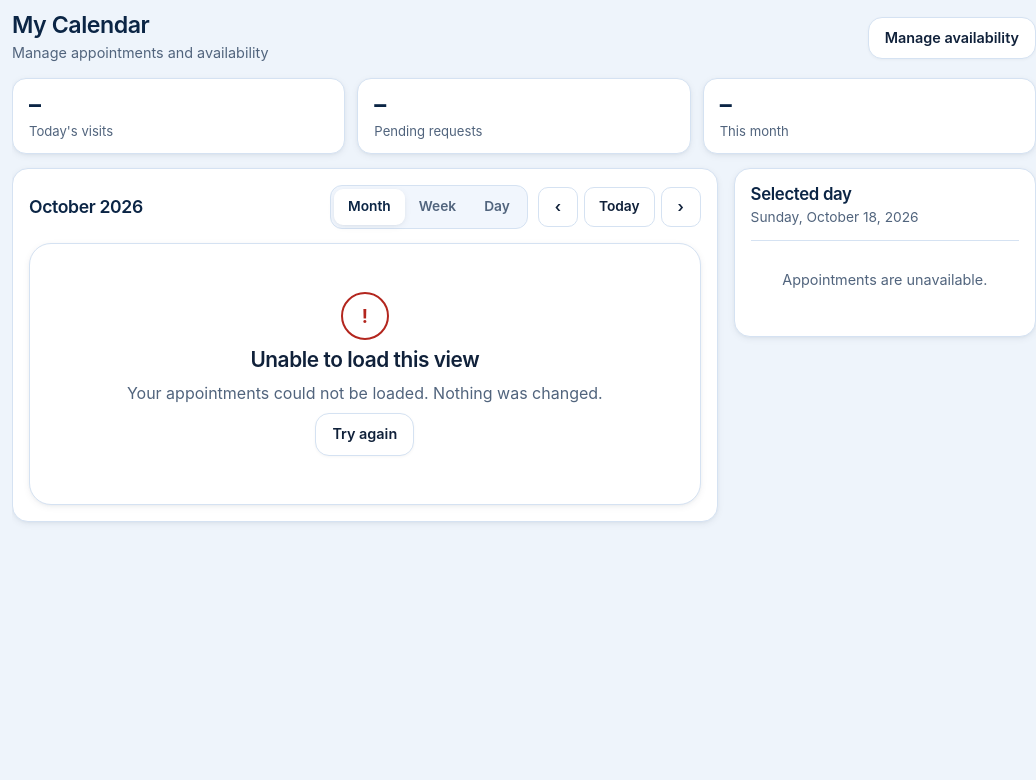
DoctorCalendarPage › shows a retry state when appointments fail to load
Click the button "Try again": click(365, 435) top-left (315, 413), bottom-right (414, 456)
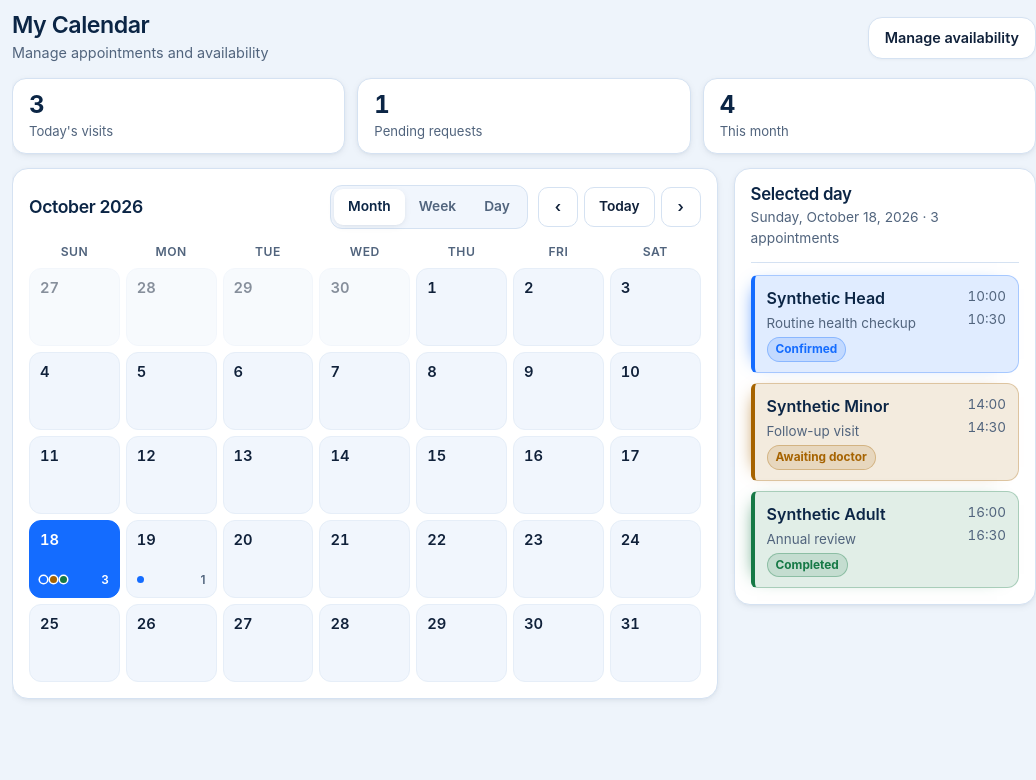
Check: the text "Synthetic Head" is shown, box top-left (767, 286), bottom-right (885, 310)
